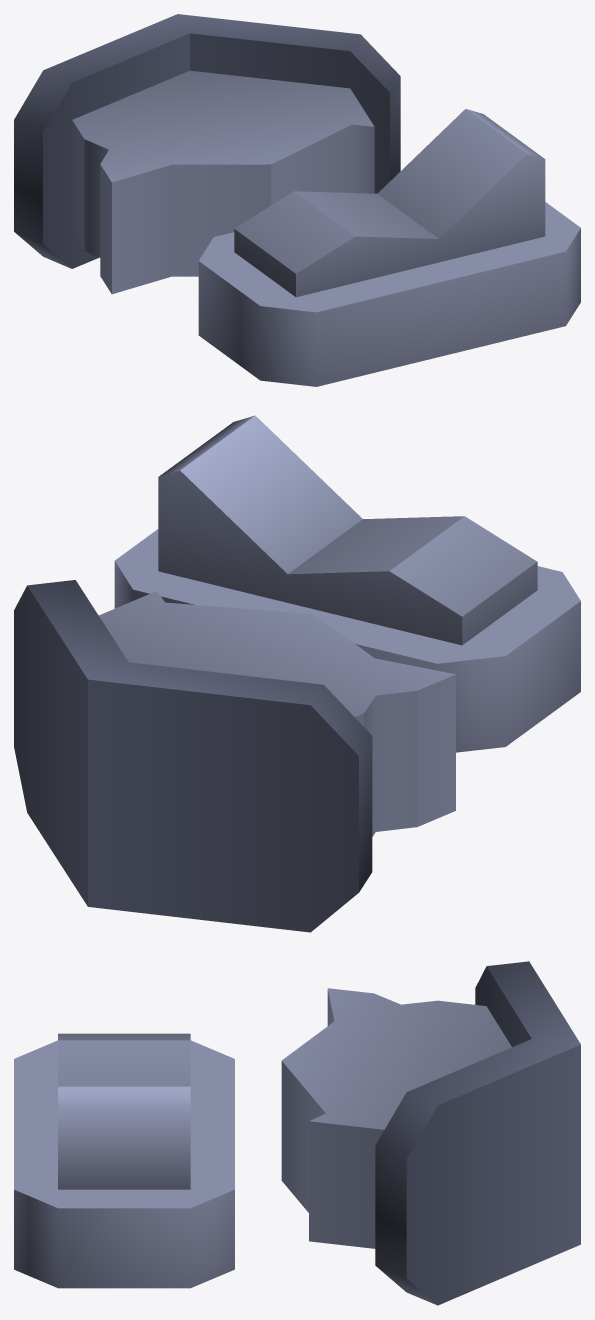
The model's file is gravestone-debris.glb.
The picture shows the model from 3 angles, top to bottom: view 1: azimuth 30°, elevation 25°; view 2: azimuth 150°, elevation 25°; view 3: azimuth 270°, elevation 25°; orthographic projection. The views are drawn at different scales.
Visible parts, largest first — view 1: gravestone-debris; view 2: gravestone-debris; view 3: gravestone-debris.
Boxes of the visible parts, x1,y1,x2,y2 form: gravestone-debris: [14, 14, 580, 386]; gravestone-debris: [14, 415, 580, 932]; gravestone-debris: [14, 961, 580, 1305].
Size of the model in its own units: 0.4952 by 0.2667 by 0.6419.
